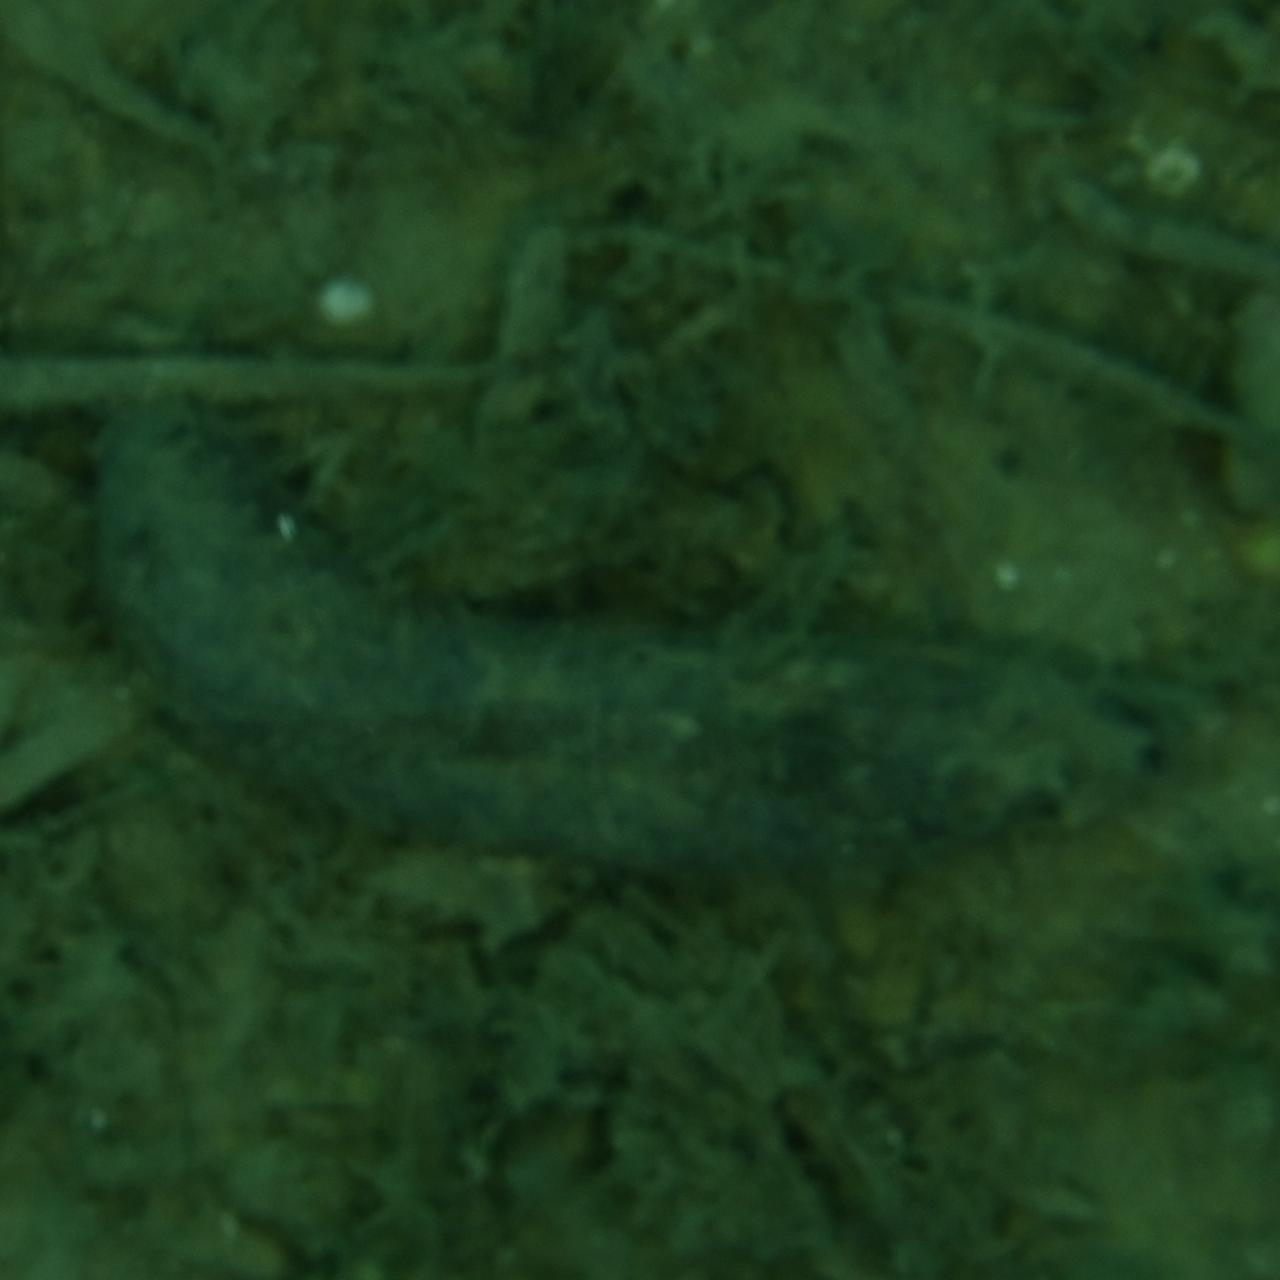Holothuria tubulosa: (92, 387, 1188, 893)
